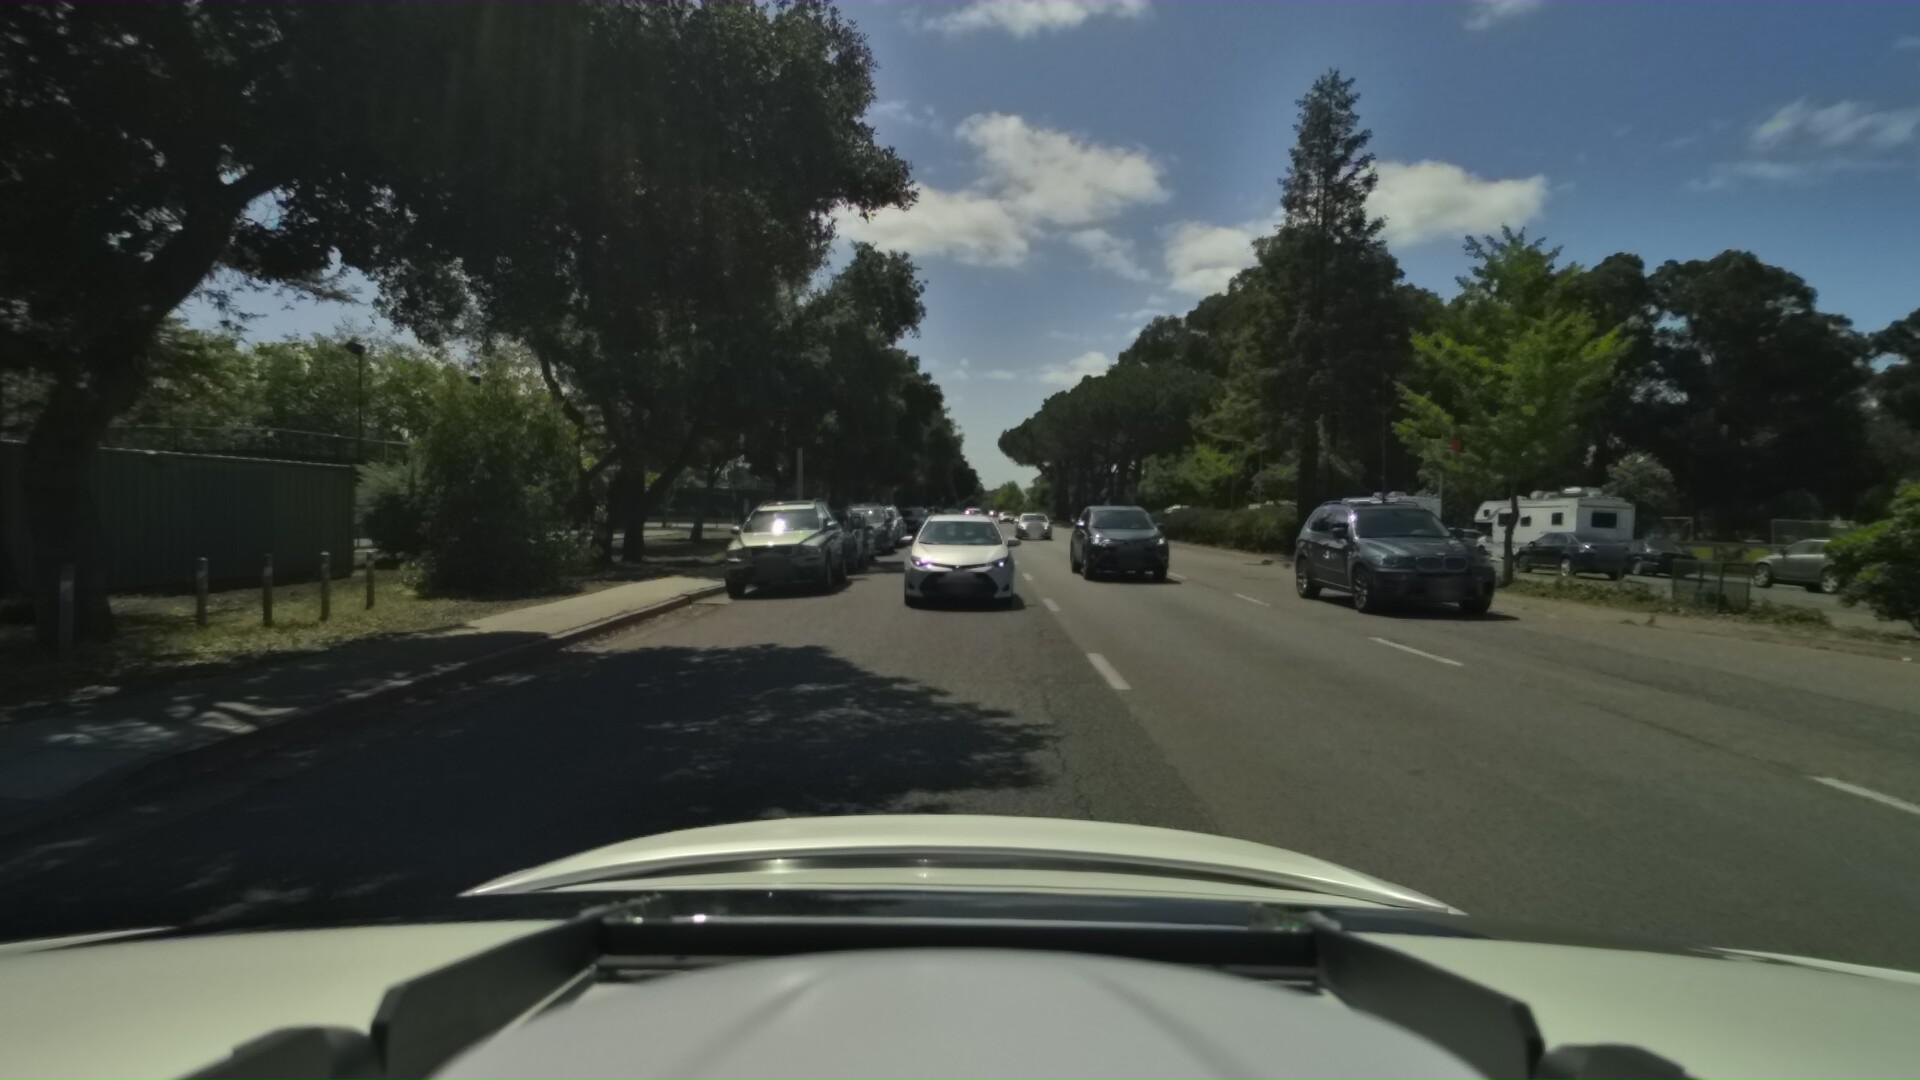car: (1284, 492, 1516, 626), (715, 491, 864, 604), (887, 506, 1023, 624), (1714, 531, 1900, 603), (1065, 504, 1171, 585), (781, 502, 876, 585), (1486, 524, 1607, 580), (1567, 531, 1691, 582), (1850, 541, 1920, 621), (804, 506, 886, 572), (825, 497, 903, 560), (851, 498, 910, 549), (1412, 524, 1486, 559), (1013, 506, 1054, 541), (894, 501, 932, 534), (961, 506, 988, 531)
other_vehicle: (1452, 479, 1633, 575), (1327, 487, 1439, 553)
